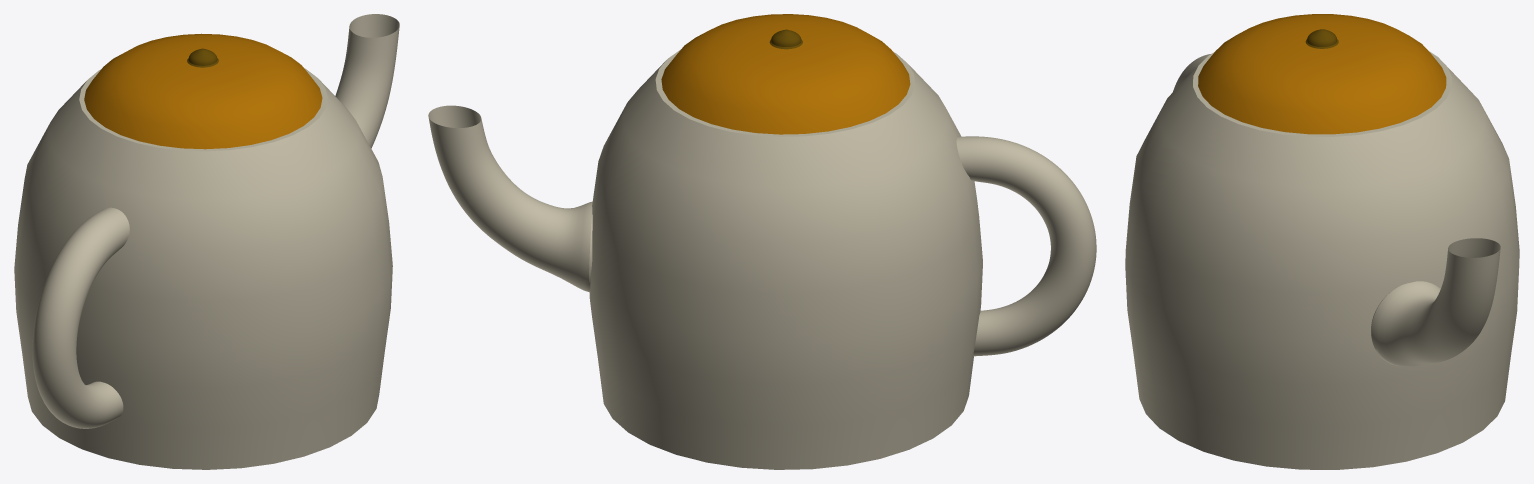
File: teapot.fbx
The picture shows the model from 3 angles, left to right: view 1: azimuth 30°, elevation 25°; view 2: azimuth 150°, elevation 25°; view 3: azimuth 270°, elevation 25°; orthographic projection. The views are drawn at different scales.
Parts seen in each view (by area): view 1: teapot; view 2: teapot; view 3: teapot.
Part boxes in pixels (x1,y1,x2,y2): teapot: [14, 14, 399, 469]; teapot: [428, 14, 1096, 469]; teapot: [1125, 14, 1519, 469].
Bounding box in the file's own units: 53.75 × 35.78 × 35.35.
